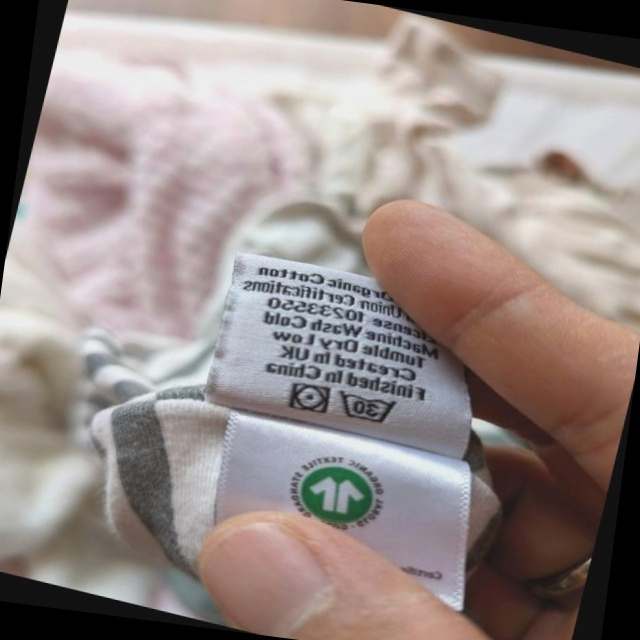30C: (331, 383, 404, 432)
tumble_dry_low: (283, 375, 335, 421)
